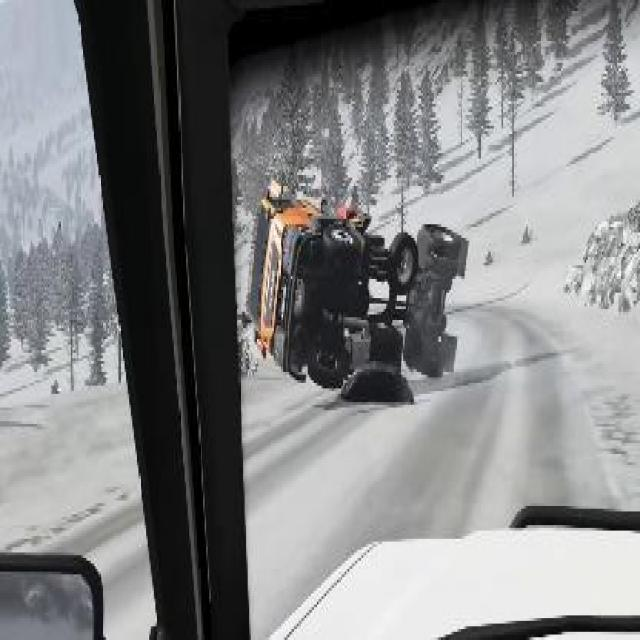accident: (243, 168, 474, 401)
